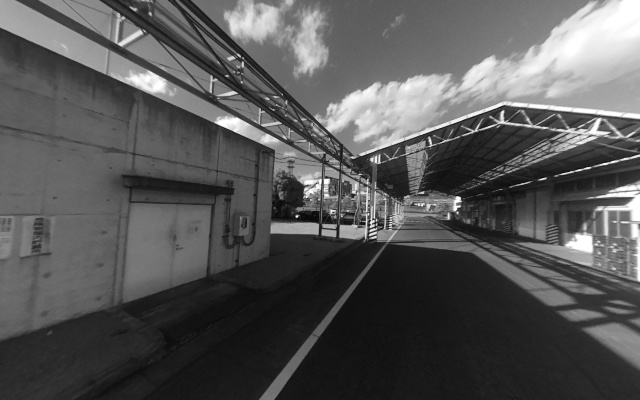bollard: (364, 217, 378, 243), (545, 223, 559, 246), (504, 218, 513, 233), (385, 215, 393, 230)
